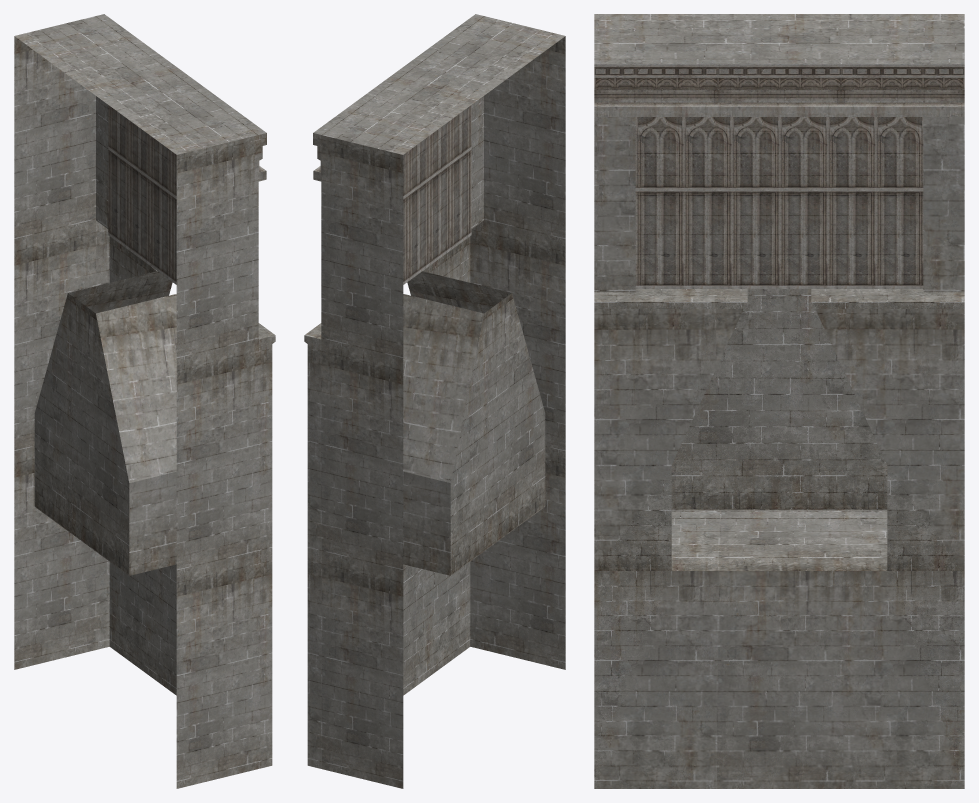
Rendered from bg_lut_lucastle_church01_sm_ksh.FBX.
3 views of the same model, side by side, from view 1: azimuth 30°, elevation 25°; view 2: azimuth 150°, elevation 25°; view 3: azimuth 270°, elevation 25° (orthographic). The views are drawn at different scales.
Visible parts, largest first — view 1: bg_lut_lucastle_church01_sm_ksh; view 2: bg_lut_lucastle_church01_sm_ksh; view 3: bg_lut_lucastle_church01_sm_ksh.
Part boxes in pixels (left/top/right/bottom): bg_lut_lucastle_church01_sm_ksh: left=14, top=14, right=275, bottom=788; bg_lut_lucastle_church01_sm_ksh: left=304, top=14, right=565, bottom=788; bg_lut_lucastle_church01_sm_ksh: left=594, top=14, right=964, bottom=788.
Size of the model in its own units: 319 by 1717 by 798.
